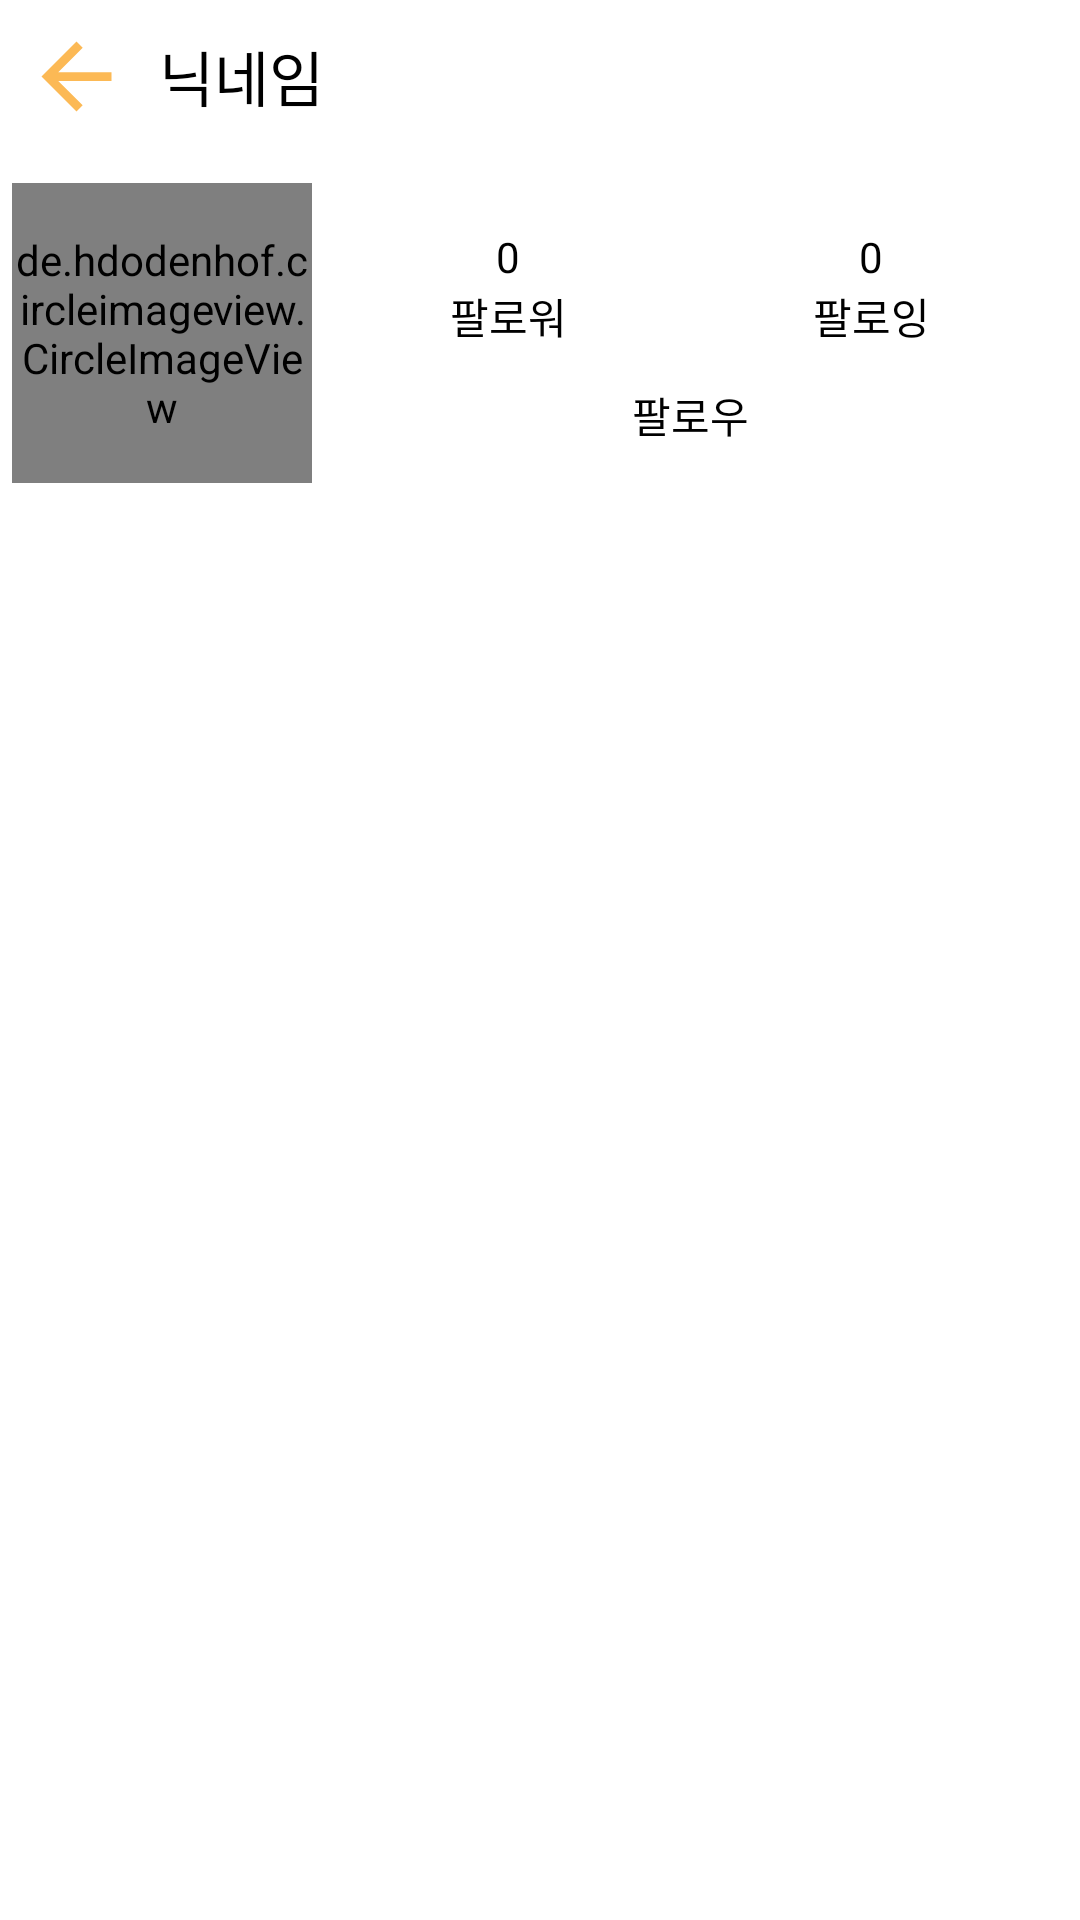

Icon bounding boxes for this 1080px x 1920px phone screenshot, format (x1, y1, x2, y2):
arrow back: (41, 41, 112, 112)
